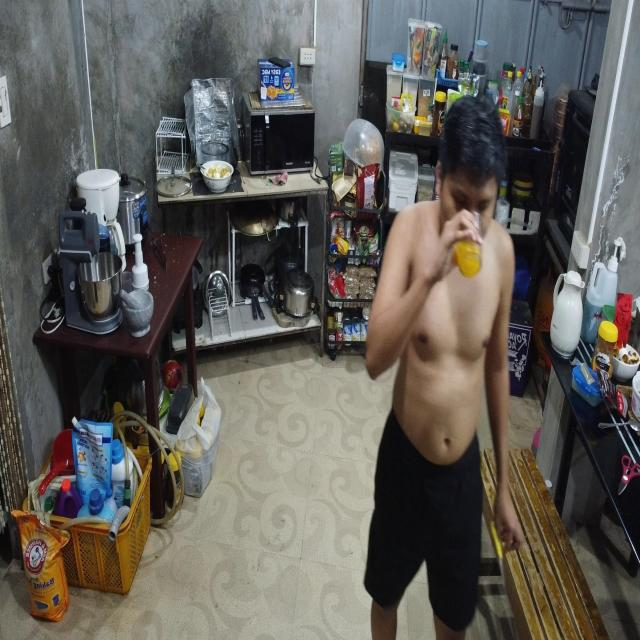scissor: (618, 455, 640, 498)
